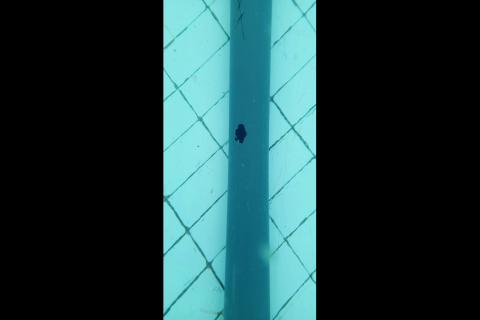kebocoran: (233, 122, 247, 144)
keretakan: (234, 0, 246, 42)
